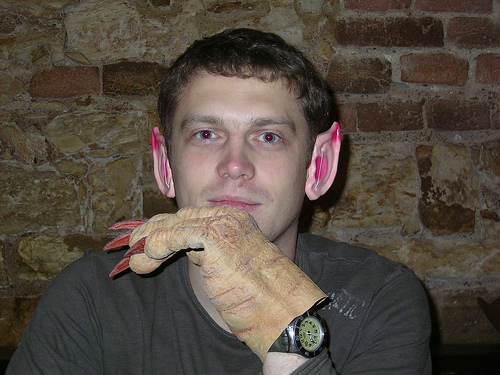without_mask: (161, 63, 309, 244)
